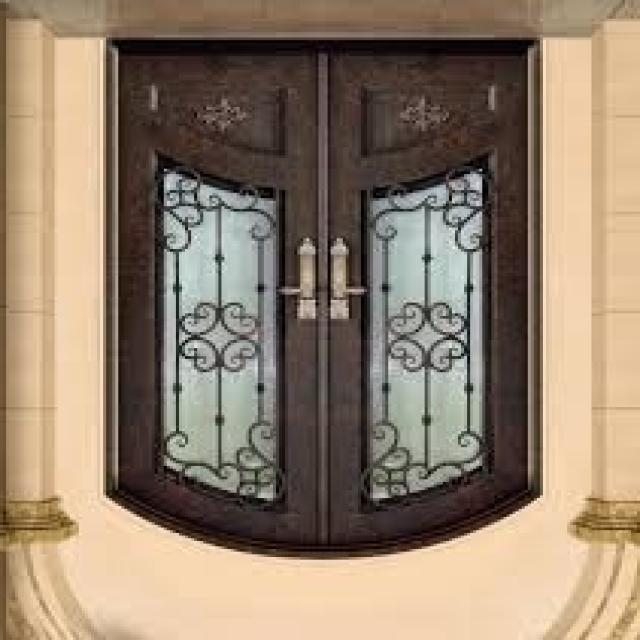door: (104, 39, 542, 561)
